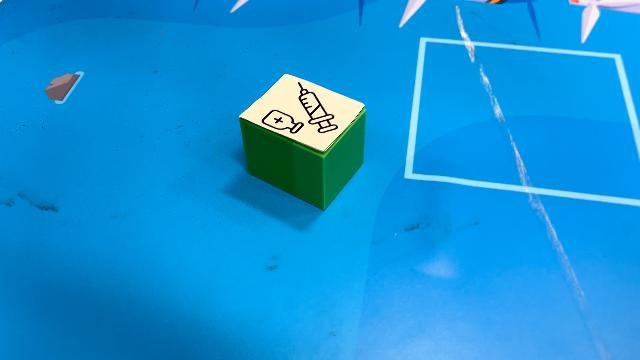syringe: (239, 74, 365, 214)
